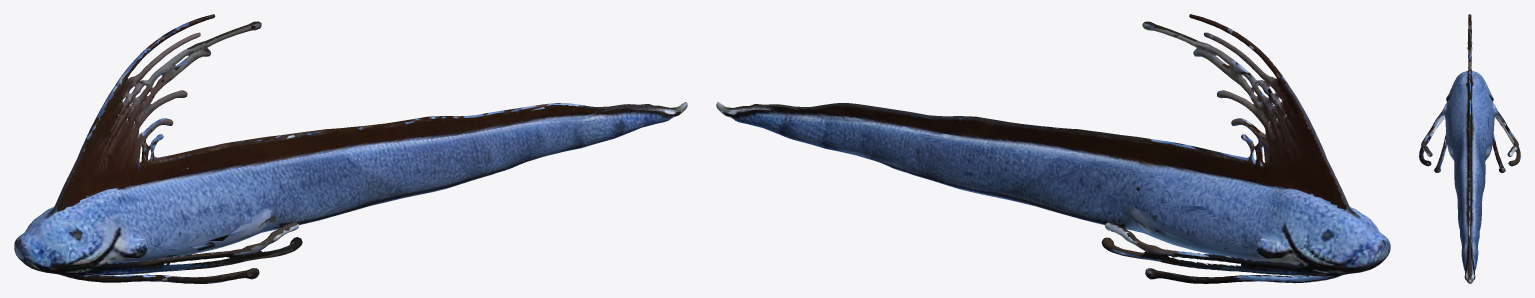
Rendered from Oarfish.glb.
3 views of the same model, side by side, from view 1: azimuth 30°, elevation 25°; view 2: azimuth 150°, elevation 25°; view 3: azimuth 270°, elevation 25° (orthographic). The views are drawn at different scales.
Visible parts, largest first — view 1: world_0; view 2: world_0; view 3: world_0.
Boxes of the visible parts, x1,y1,x2,y2 form: world_0: (14, 14, 687, 283); world_0: (716, 14, 1390, 283); world_0: (1419, 14, 1520, 283).
Bounding box in the file's own units: 1.99 × 0.7032 × 0.4439.
1 material, 1 textured.
